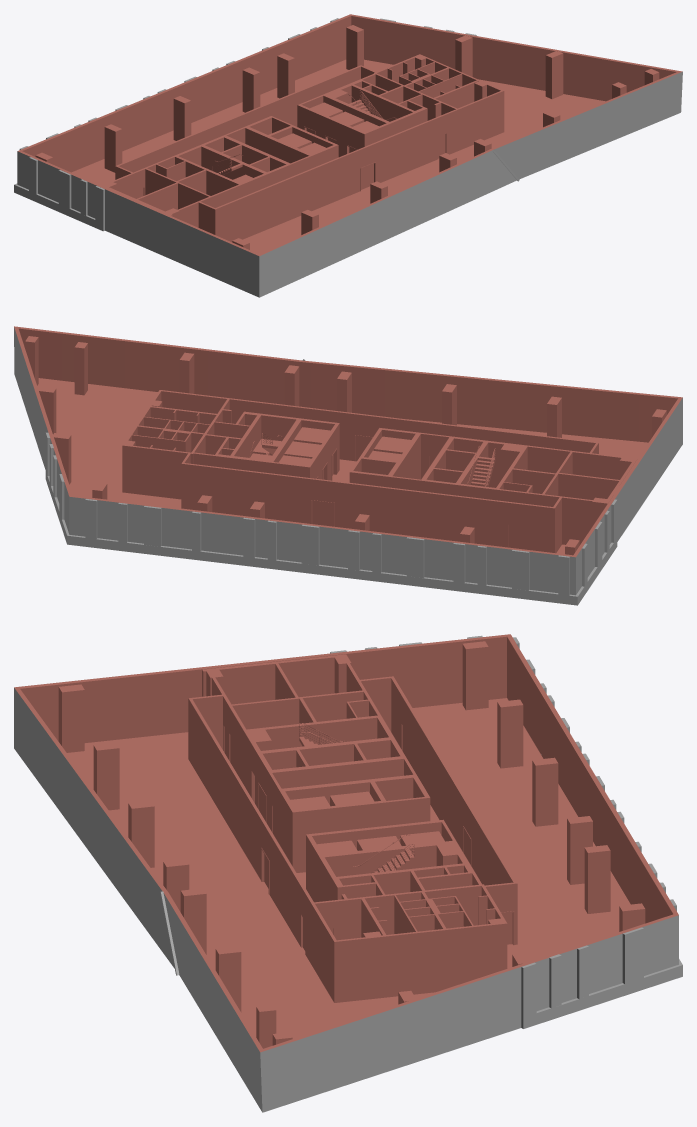
File: JLL_Ruya_Region3DModels_Riyadh_Derived_HeroBuildings_Building 305_Floors_KSA_04_04105_B29_Floor_T1_8.fbx
3 views of the same model, one above another, from view 1: azimuth 30°, elevation 25°; view 2: azimuth 150°, elevation 25°; view 3: azimuth 270°, elevation 25° (orthographic). The views are drawn at different scales.
Parts seen in each view (by area): view 1: KSA_04_04105_B29_Floor_T1_8; view 2: KSA_04_04105_B29_Floor_T1_8; view 3: KSA_04_04105_B29_Floor_T1_8.
Part boxes in pixels (x1,y1,x2,y2): KSA_04_04105_B29_Floor_T1_8: [14, 14, 682, 297]; KSA_04_04105_B29_Floor_T1_8: [14, 326, 682, 605]; KSA_04_04105_B29_Floor_T1_8: [14, 634, 682, 1112].
Size of what is drawn, in the model's own units: 6015 by 508 by 4048.
